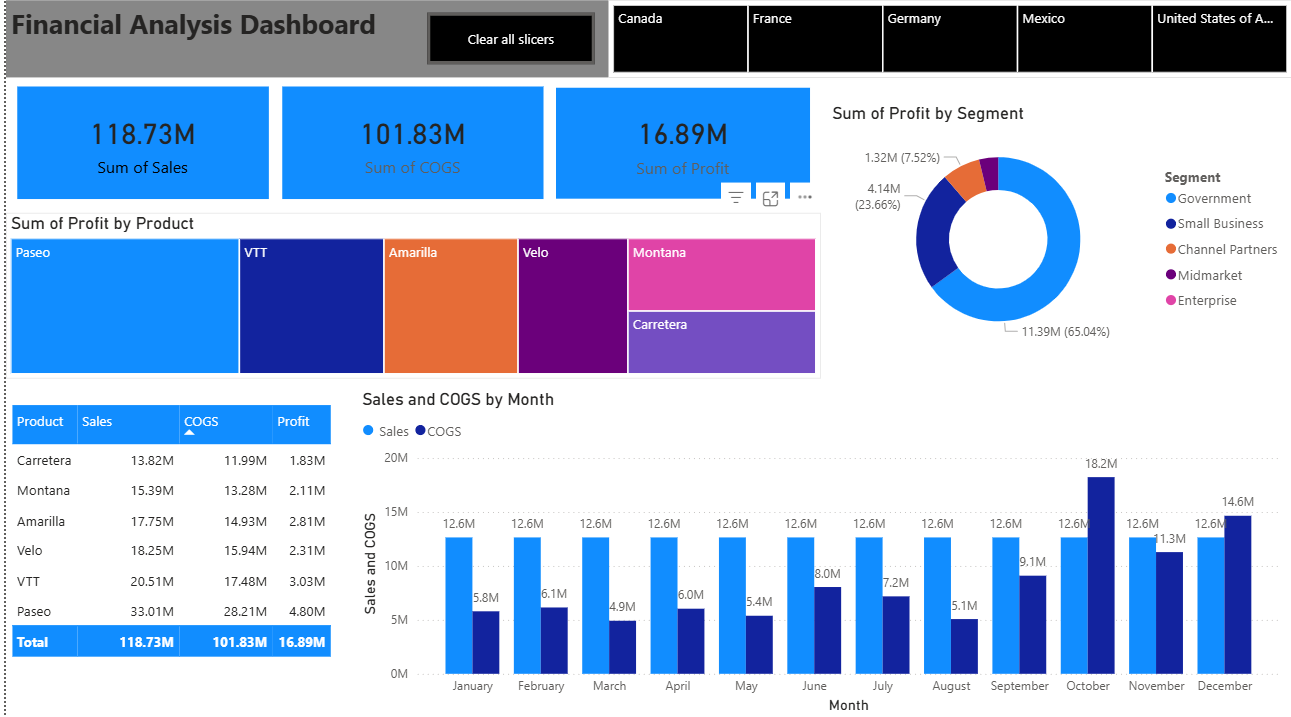

The page's visual inventory and layout, read from the dashboard file:
{"tool":"powerbi","page":{"name":"Page 1","canvas":[1280,720],"ordinal":0},"visuals":[{"type":"card","fields":{"Values":["Sum(financials.Sales)"]},"box":[11.2,92.1,250,112],"z":0},{"type":"card","fields":{"Values":["Sum(financials.COGS)"]},"box":[274.9,92.1,260,112],"z":1000},{"type":"card","fields":{"Values":["Sum(financials.Profit)"]},"box":[547.3,93.3,252.5,110.7],"z":2000},{"type":"donutChart","fields":{"Y":["Sum(financials.Profit)"],"Category":["financials.Segment"]},"box":[817.3,108.2,462.8,251.3],"z":3000},{"type":"clusteredColumnChart","fields":{"Y":["Sum(Orders.Sales)","Sum(financials.COGS)"],"Category":["financials.Date.Variation.Date Hierarchy.Month"]},"box":[349.6,393.1,923,327.2],"z":4000},{"type":"textbox","box":[0,6.2,1278.8,77.1],"z":5000},{"type":"treemap","fields":{"Group":["financials.Product"],"Values":["Sum(financials.Profit)"]},"box":[0,217.7,811.1,165.4],"z":6000},{"type":"tableEx","fields":{"Values":["financials.Product","Sum(financials.Sales)","Sum(financials.COGS)","Sum(financials.Profit)"]},"box":[0,404.3,343.3,292.3],"z":7000},{"type":"treemap","fields":{"Group":["financials.Country"],"Values":["CountNonNull(financials.Product)"]},"box":[599.6,6.2,680.4,77.1],"z":8000},{"type":"actionButton","box":[419.2,18.7,166.7,51],"z":9000}]}

Visuals, with their boxes in screenshot pixels (x1, y1, x2, y2), scaled from the page's 1280x720 canvas onto the 1291x717 screenshot:
card - Sum(financials.Sales): x1=11 y1=92 x2=263 y2=203
card - Sum(financials.COGS): x1=277 y1=92 x2=539 y2=203
card - Sum(financials.Profit): x1=552 y1=93 x2=807 y2=203
donutChart - Sum(financials.Profit) x financials.Segment: x1=824 y1=108 x2=1290 y2=358
clusteredColumnChart - Sum(Orders.Sales) x Sum(financials.COGS): x1=353 y1=391 x2=1284 y2=716
textbox: x1=0 y1=6 x2=1290 y2=83
treemap - financials.Product x Sum(financials.Profit): x1=0 y1=217 x2=818 y2=382
tableEx - financials.Product x Sum(financials.Sales): x1=0 y1=403 x2=346 y2=694
treemap - financials.Country x CountNonNull(financials.Product): x1=605 y1=6 x2=1290 y2=83
actionButton: x1=423 y1=19 x2=591 y2=69
